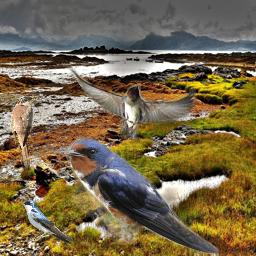Cuckoo: (11, 96, 38, 171)
Swallow: (65, 137, 219, 254), (67, 65, 198, 143), (21, 200, 74, 244)
